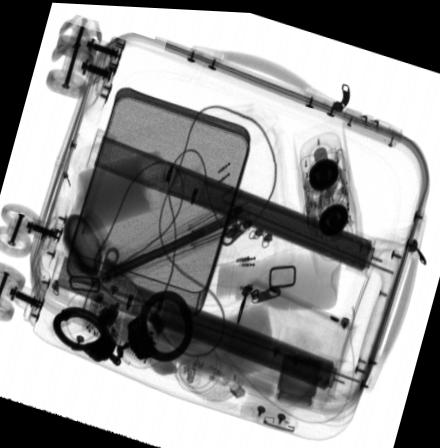HandCuffs: (50, 288, 193, 366)
